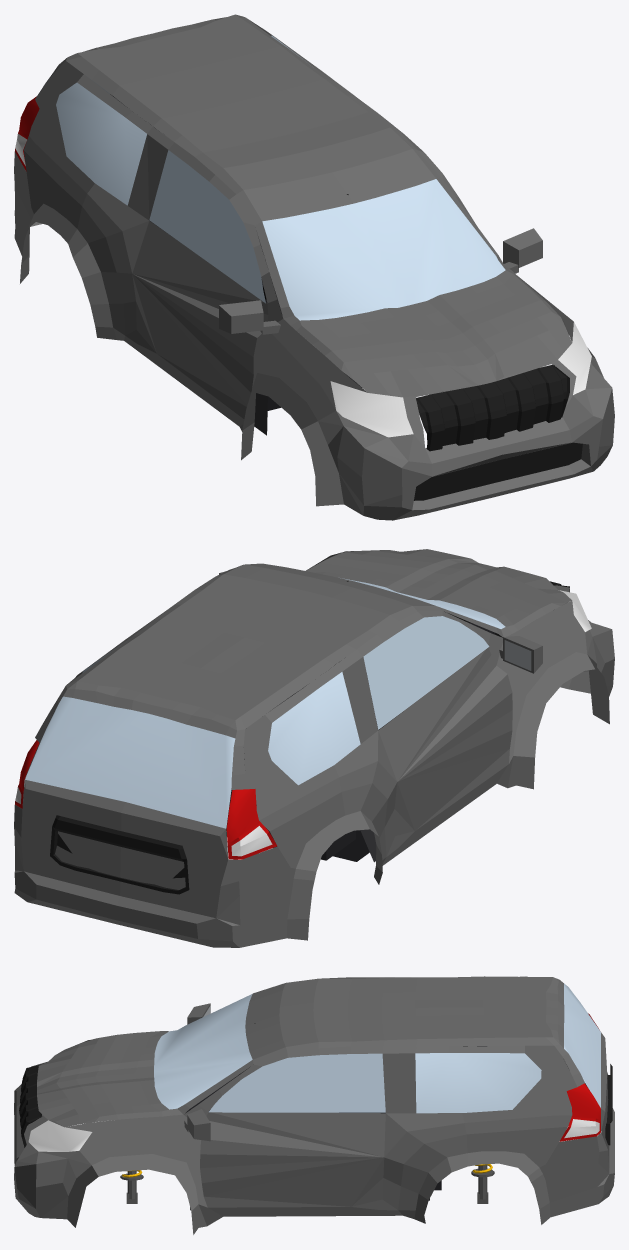
Rendered from prado.obj.
3 views of the same model, one above another, from view 1: azimuth 30°, elevation 25°; view 2: azimuth 150°, elevation 25°; view 3: azimuth 270°, elevation 25° (orthographic). The views are drawn at different scales.
Parts seen in each view (by area): view 1: body, glass_front, glass_side_front, glass_side_rear, light_head, side_mirror_R, side_mirror_L; view 2: body, glass_rear, glass_side_front, glass_side_rear, light_tail, glass_front, light_reverse, side_mirror_R, int_floor, mirror_right; view 3: body, glass_side_front, glass_front, glass_side_rear, glass_rear, light_head, light_tail, side_mirror_L, light_reverse, susp_rear_damper, susp_front_damper.
Part boxes in pixels (x1=…): body: x1=14, y1=14, x2=614, y2=520; glass_front: x1=262, y1=179, x2=505, y2=320; glass_side_front: x1=149, y1=150, x2=265, y2=303; glass_side_rear: x1=56, y1=35, x2=302, y2=205; light_head: x1=330, y1=322, x2=591, y2=437; side_mirror_R: x1=219, y1=300, x2=280, y2=334; side_mirror_L: x1=503, y1=228, x2=542, y2=273; body: x1=14, y1=549, x2=614, y2=947; glass_rear: x1=25, y1=696, x2=235, y2=828; glass_side_front: x1=363, y1=616, x2=489, y2=729; glass_side_rear: x1=82, y1=643, x2=360, y2=785; light_tail: x1=15, y1=740, x2=276, y2=859; glass_front: x1=340, y1=578, x2=505, y2=628; light_reverse: x1=15, y1=780, x2=272, y2=856; side_mirror_R: x1=499, y1=636, x2=542, y2=673; int_floor: x1=280, y1=685, x2=396, y2=861; mirror_right: x1=504, y1=640, x2=531, y2=670; body: x1=14, y1=976, x2=614, y2=1234; glass_side_front: x1=209, y1=1053, x2=385, y2=1112; glass_front: x1=154, y1=994, x2=252, y2=1109; glass_side_rear: x1=415, y1=1053, x2=541, y2=1113; glass_rear: x1=564, y1=983, x2=600, y2=1107; light_head: x1=28, y1=1120, x2=92, y2=1151; light_tail: x1=559, y1=1013, x2=600, y2=1141; side_mirror_L: x1=184, y1=1109, x2=210, y2=1141; light_reverse: x1=564, y1=1119, x2=599, y2=1138; susp_rear_damper: x1=471, y1=1165, x2=494, y2=1203; susp_front_damper: x1=120, y1=1170, x2=143, y2=1203.
Size of the model in its own units: 2.53 by 1.7 by 5.37.
